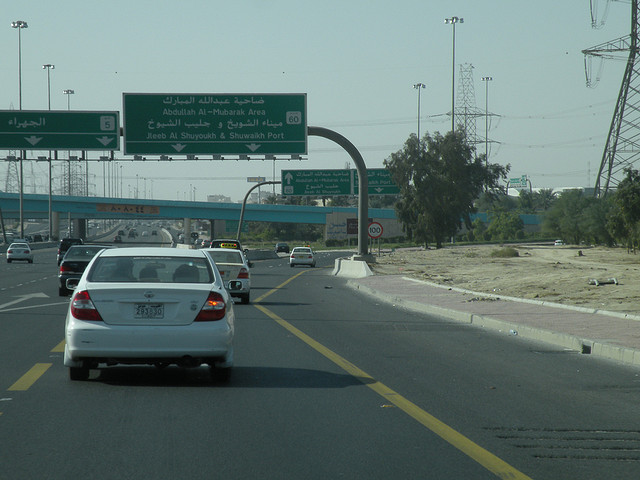Car: (70, 243, 235, 375)
Speed Limit: (364, 220, 385, 237)
